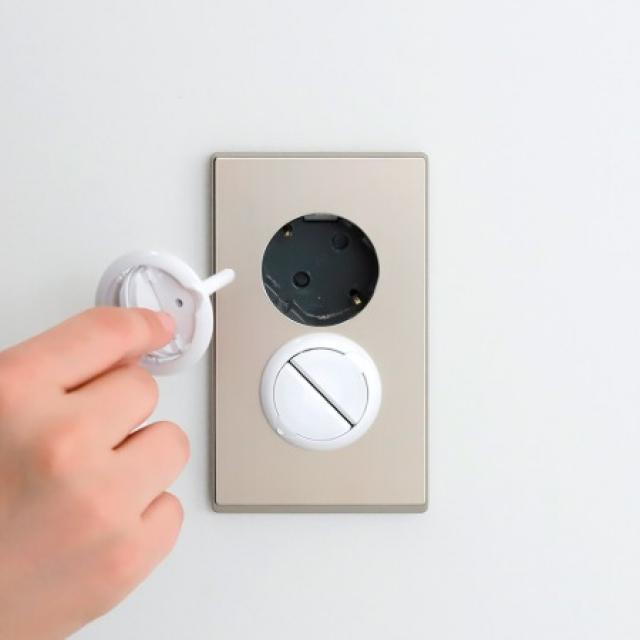typeb: (178, 125, 463, 597)
